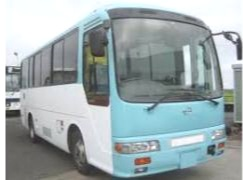bus: (17, 2, 242, 179)
